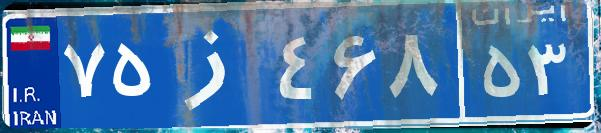3: (525, 38, 570, 115)
4: (273, 28, 330, 110)
5: (475, 38, 525, 113), (110, 28, 158, 105)
6: (330, 28, 385, 110)
7: (57, 26, 110, 107)
8: (385, 28, 445, 110)
ز: (158, 15, 273, 115)
